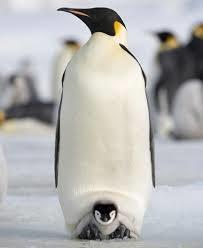emporer: (41, 1, 154, 248)
